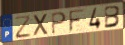4: (88, 7, 102, 31)
B: (104, 5, 122, 29)
F: (68, 8, 86, 34)
P: (51, 12, 68, 35)
X: (33, 13, 50, 38)
Z: (14, 15, 33, 40)
